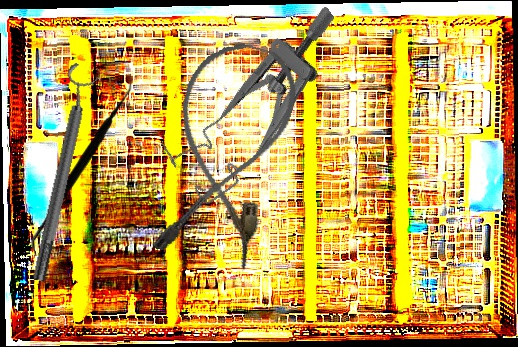Cannula: (144, 32, 306, 274)
Fixation Ring: (19, 61, 105, 285)
Spatula Surgical: (28, 74, 138, 256)
Speculum: (147, 2, 382, 210)
